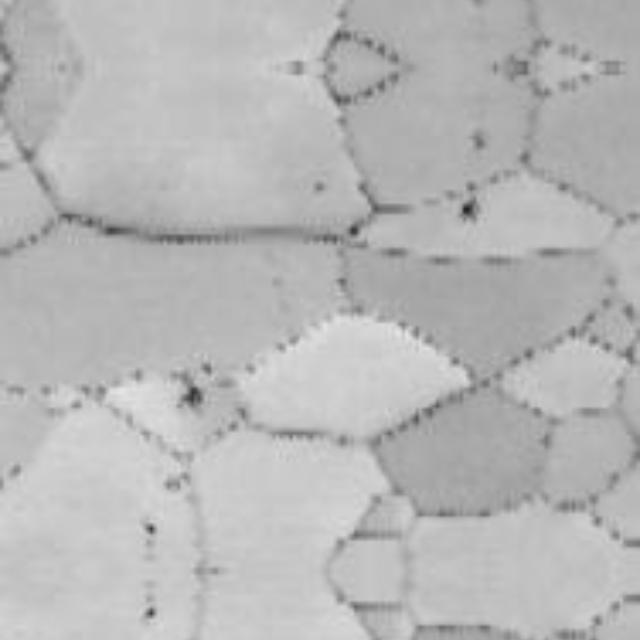good_void: (174, 374, 210, 411), (460, 195, 495, 226), (467, 129, 492, 157), (137, 519, 164, 537), (137, 607, 164, 625), (313, 181, 329, 196)
